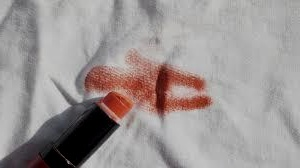lipstick: (81, 59, 215, 114)
